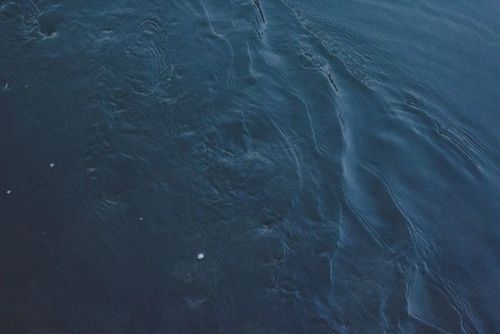mountain: (0, 29, 487, 331)
sea_river: (6, 51, 414, 331)
